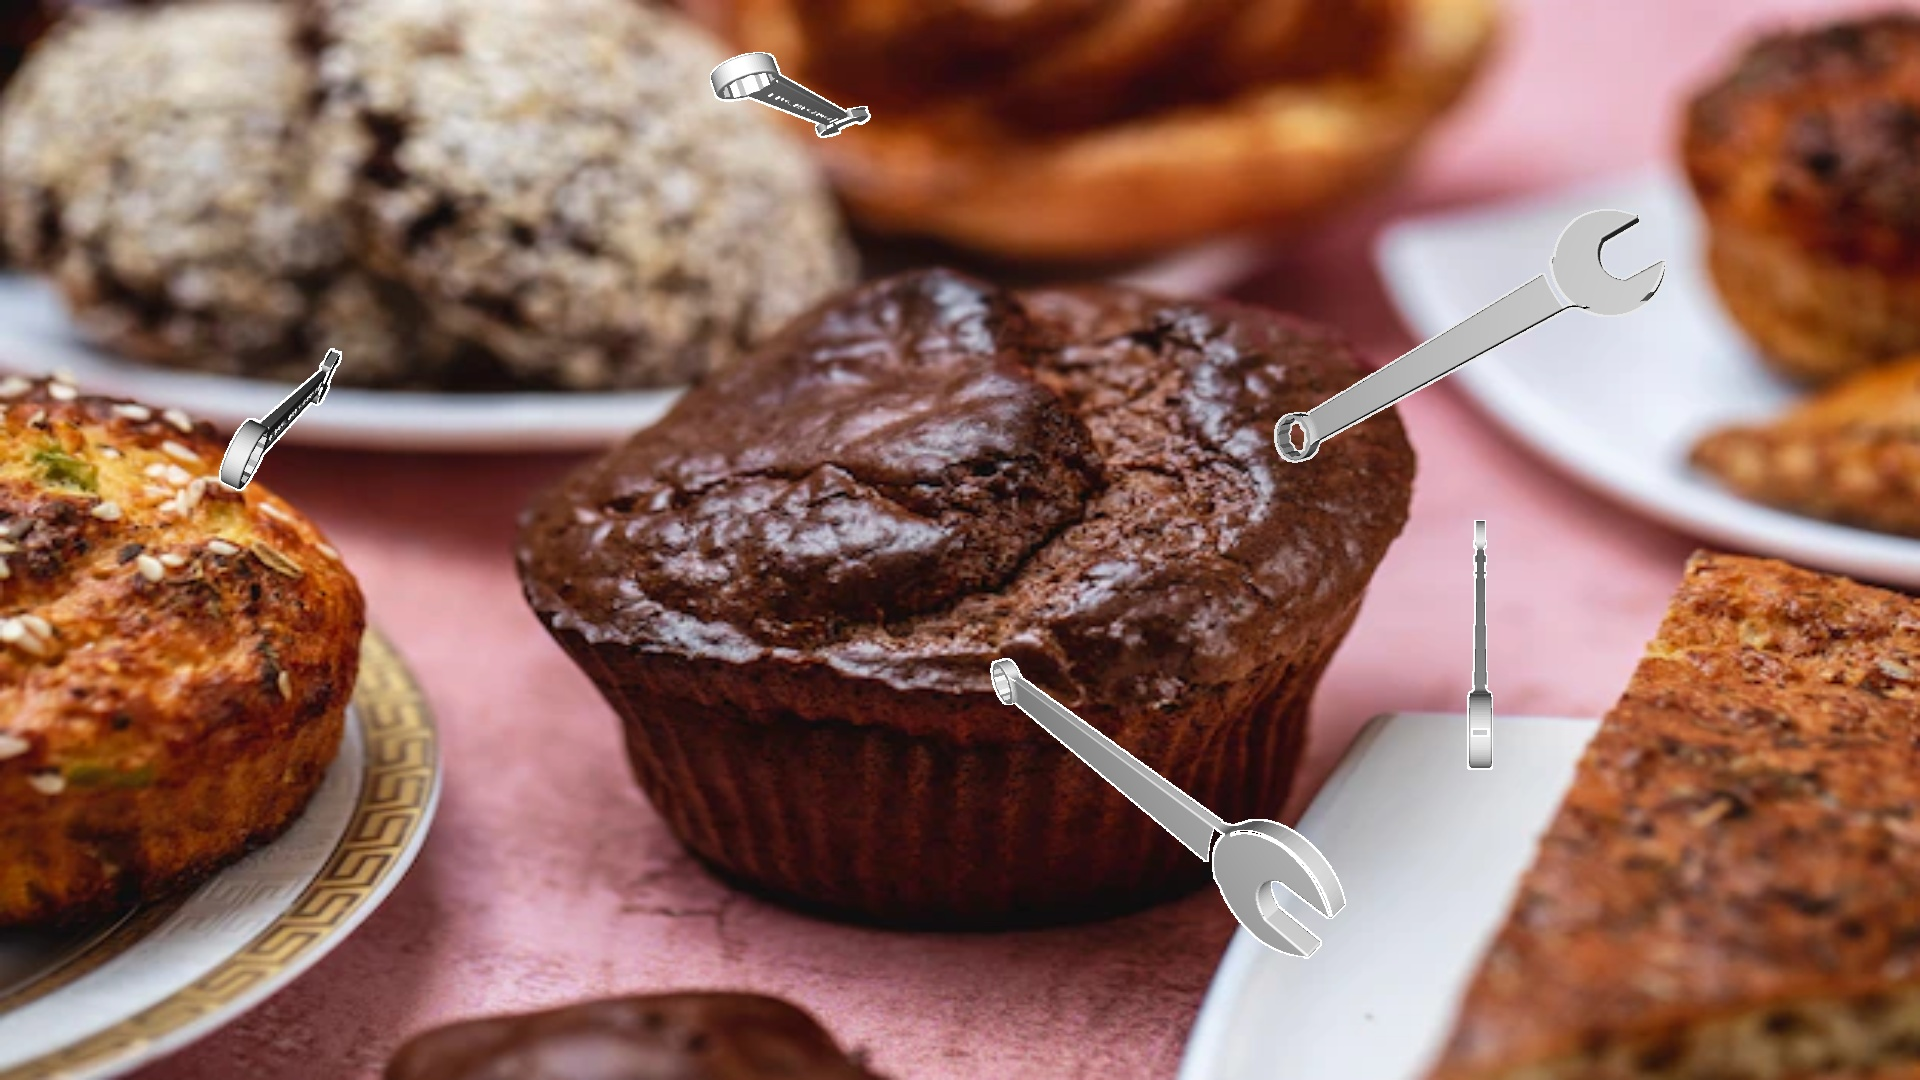Mixed Key: (990, 658, 1345, 957), (1274, 208, 1665, 462), (219, 348, 342, 491), (709, 51, 870, 137), (1466, 520, 1491, 769)
